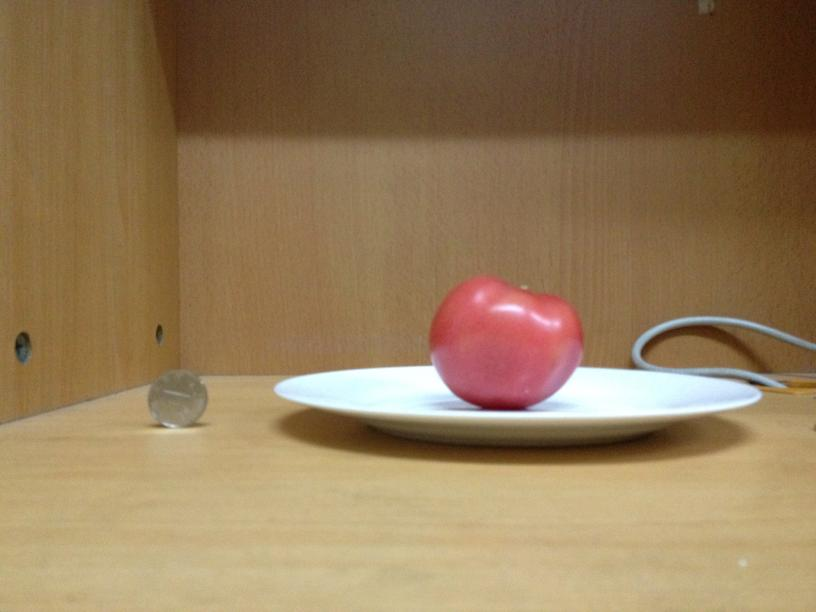coin: (142, 368, 209, 425)
tomato: (427, 274, 586, 408)
